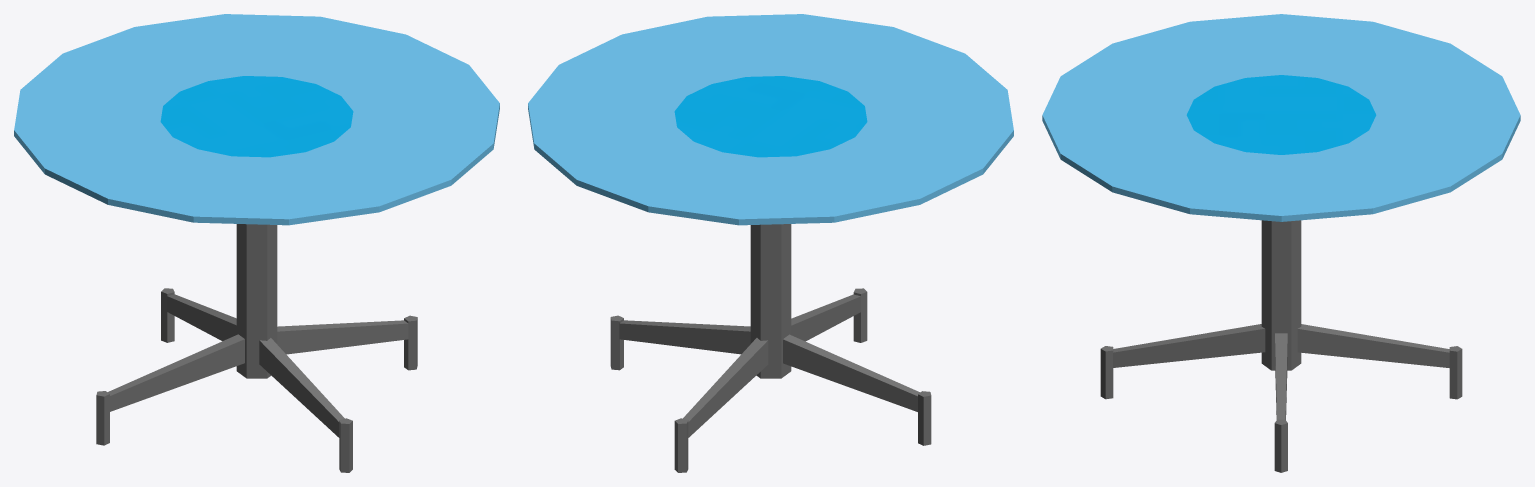
The model's file is kitchen_table_011.glb.
The picture shows the model from 3 angles, left to right: view 1: azimuth 30°, elevation 25°; view 2: azimuth 150°, elevation 25°; view 3: azimuth 270°, elevation 25°; orthographic projection. The views are drawn at different scales.
Parts seen in each view (by area): view 1: kitchen_table_011; view 2: kitchen_table_011; view 3: kitchen_table_011.
Part boxes in pixels (x1,y1,x2,y2): kitchen_table_011: [14, 14, 499, 472]; kitchen_table_011: [528, 14, 1013, 472]; kitchen_table_011: [1042, 14, 1520, 472].
Size of the model in its own units: 1.07 by 0.6964 by 1.07.
1 material, 1 textured.
